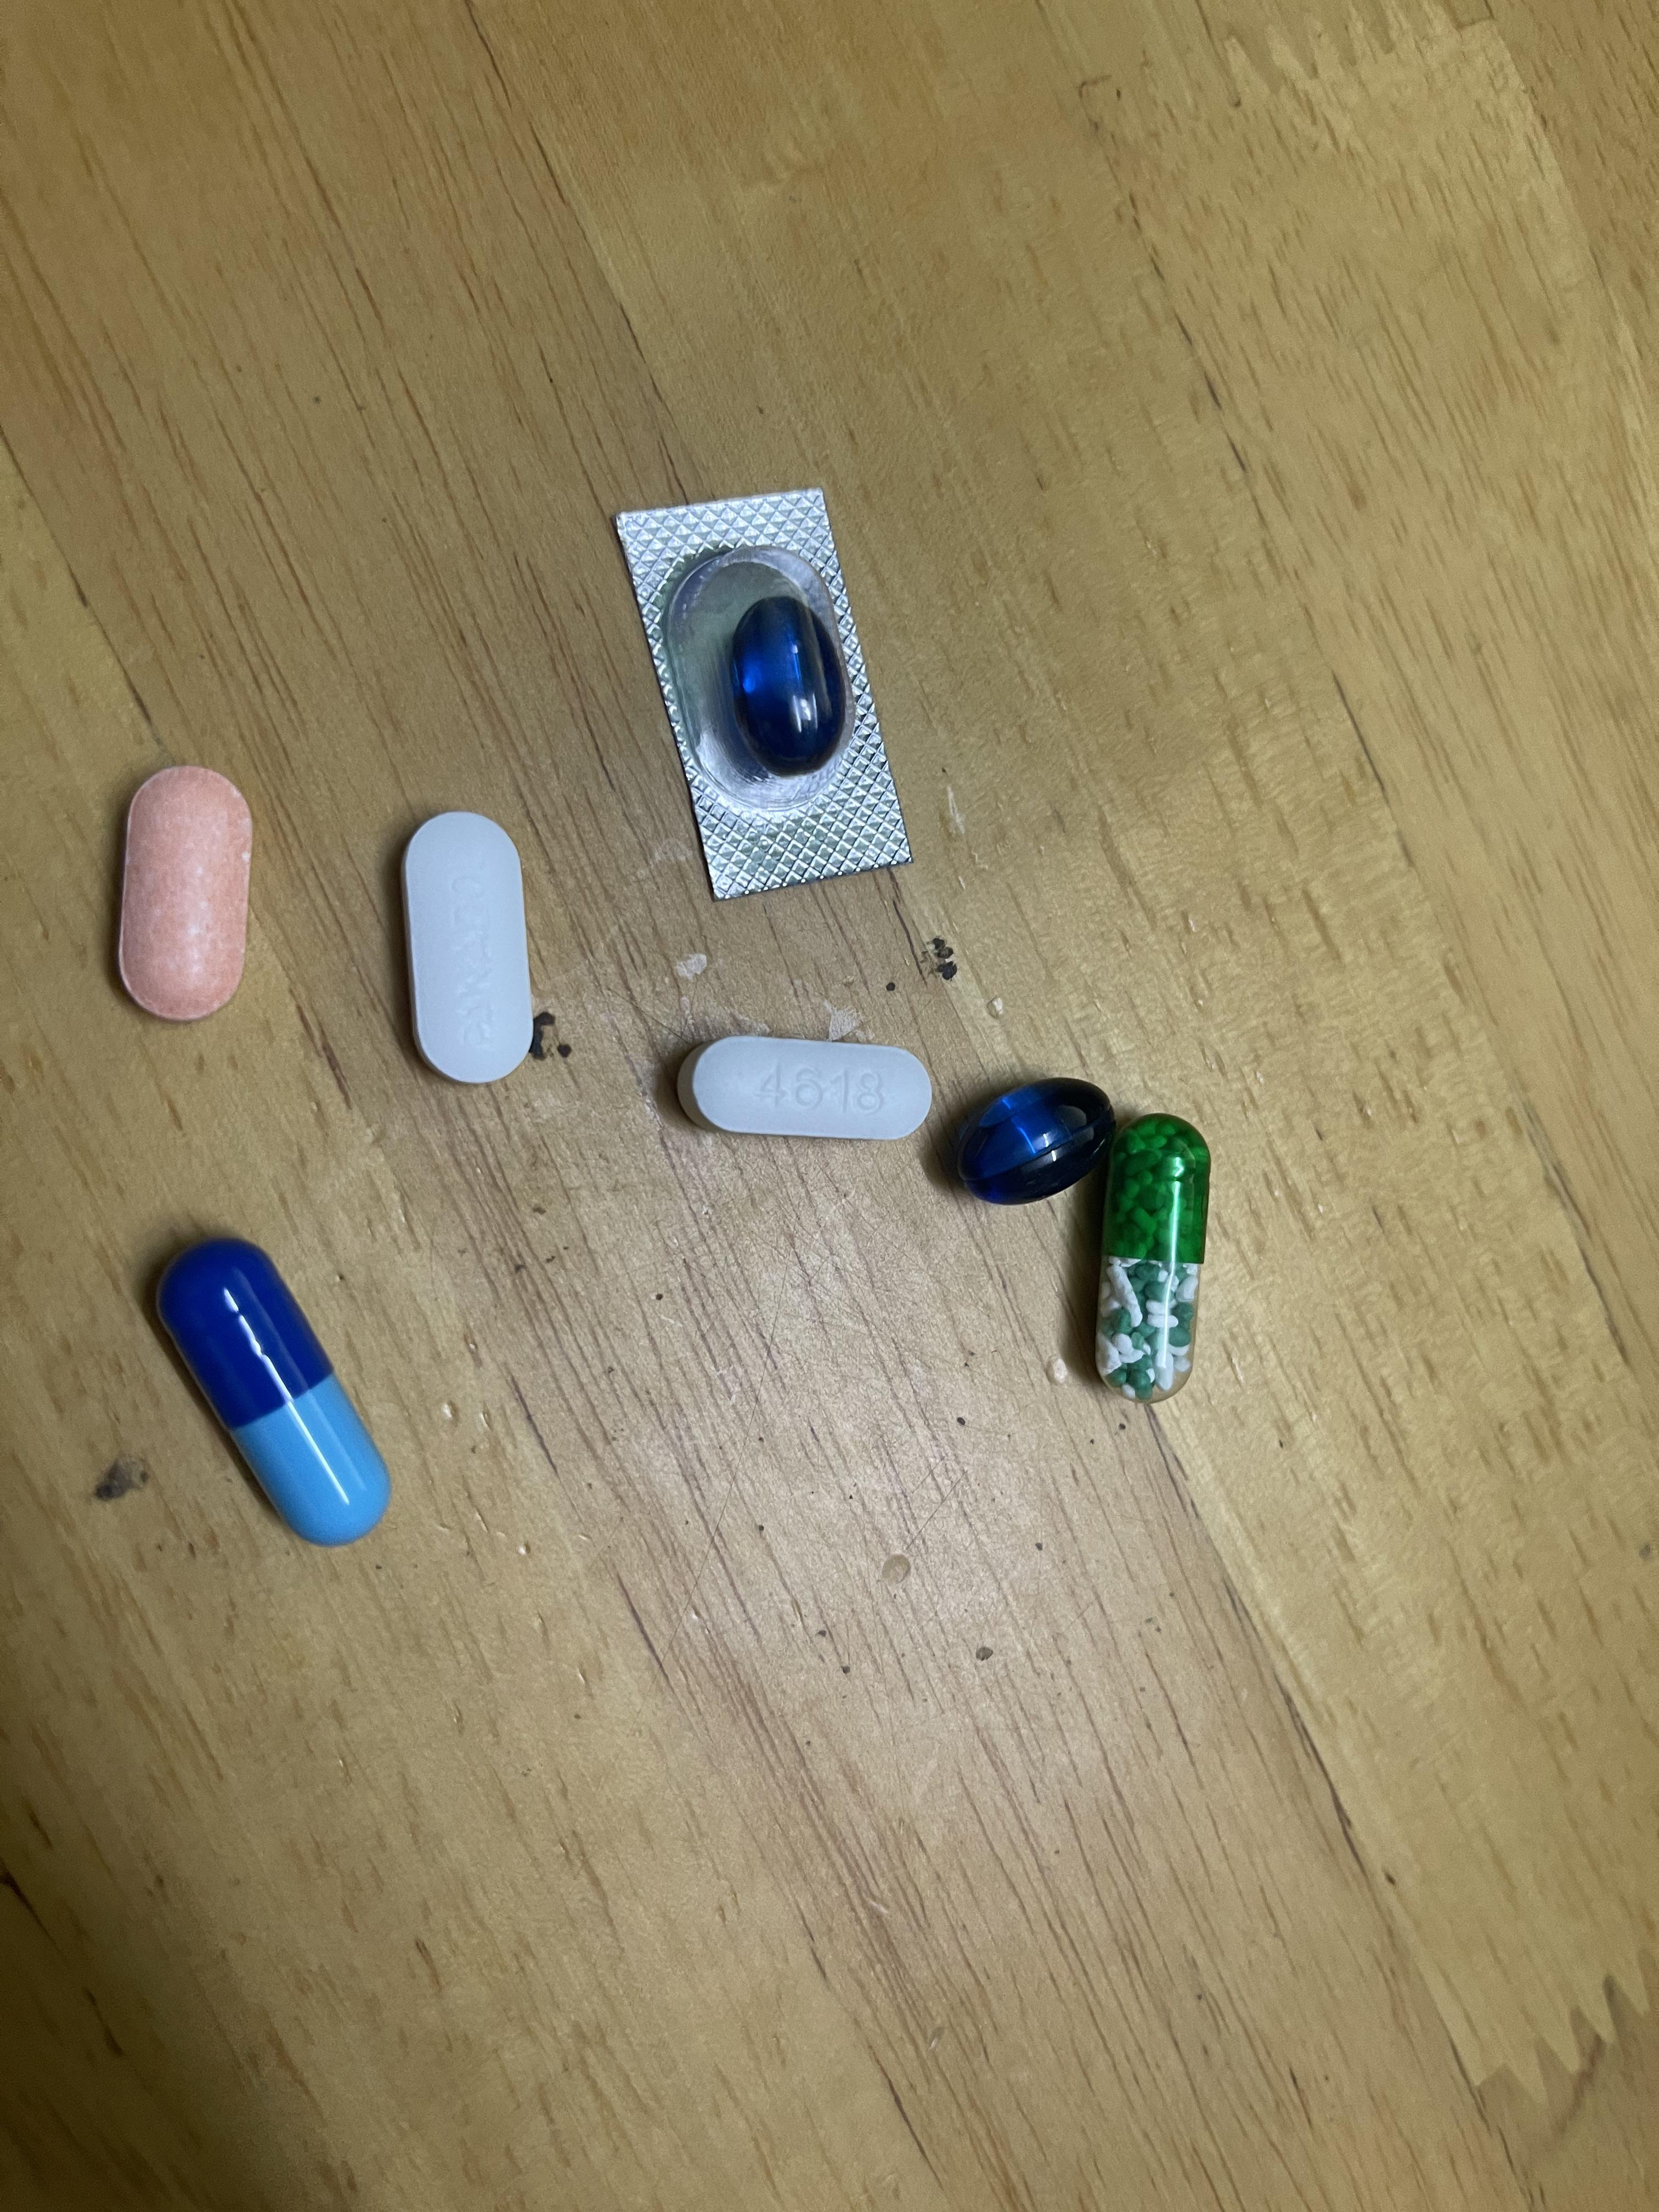Lincomyxin_500mg: (728, 596, 842, 772), (957, 1080, 1108, 1200)
Loratadine_10mg: (115, 766, 254, 1026)
Paracetamol_350mg: (401, 815, 535, 1076)
Paracetamol_500mg: (681, 1035, 934, 1136)
Paracetamol_650mg: (1100, 1116, 1204, 1395)
pill: (160, 1247, 387, 1543)
